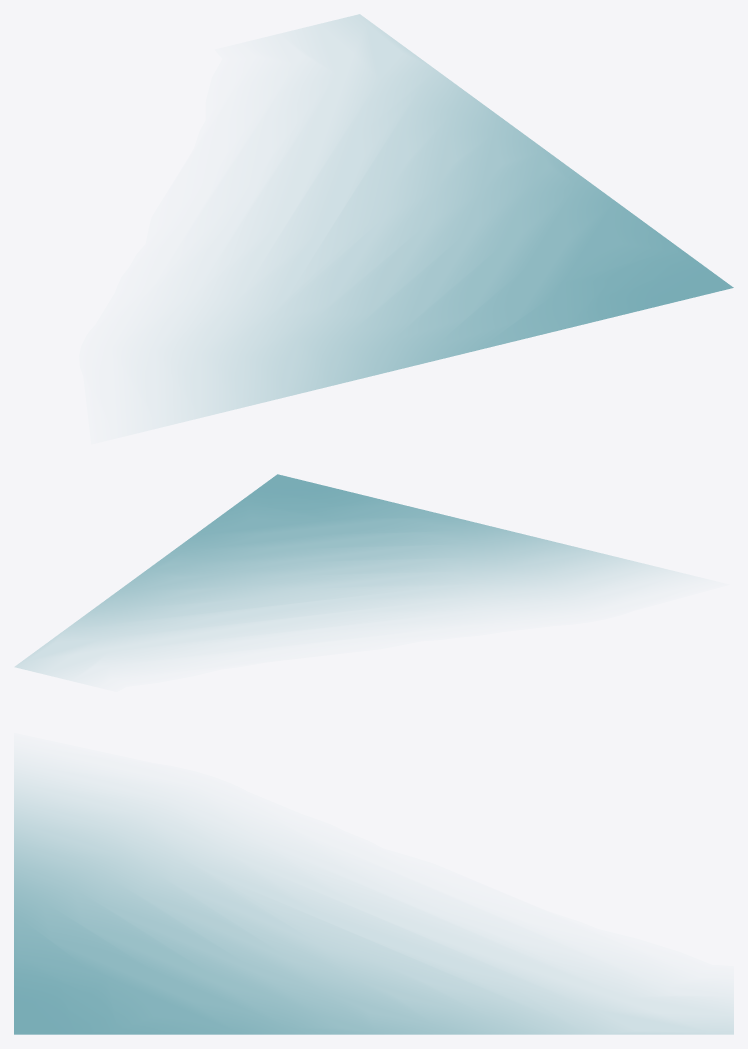
3 renders of one model, top to bottom at view 1: azimuth 30°, elevation 25°; view 2: azimuth 150°, elevation 25°; view 3: azimuth 270°, elevation 25°, orthographic. The views are drawn at different scales.
Parts seen in each view (by area): view 1: city; view 2: city; view 3: city.
Part boxes in pixels (<box>): city: <box>167,14,733,424</box>; city: <box>15,474,672,678</box>; city: <box>14,770,733,1034</box>.
Size of the model in its own units: 500 by 0 by 500.
